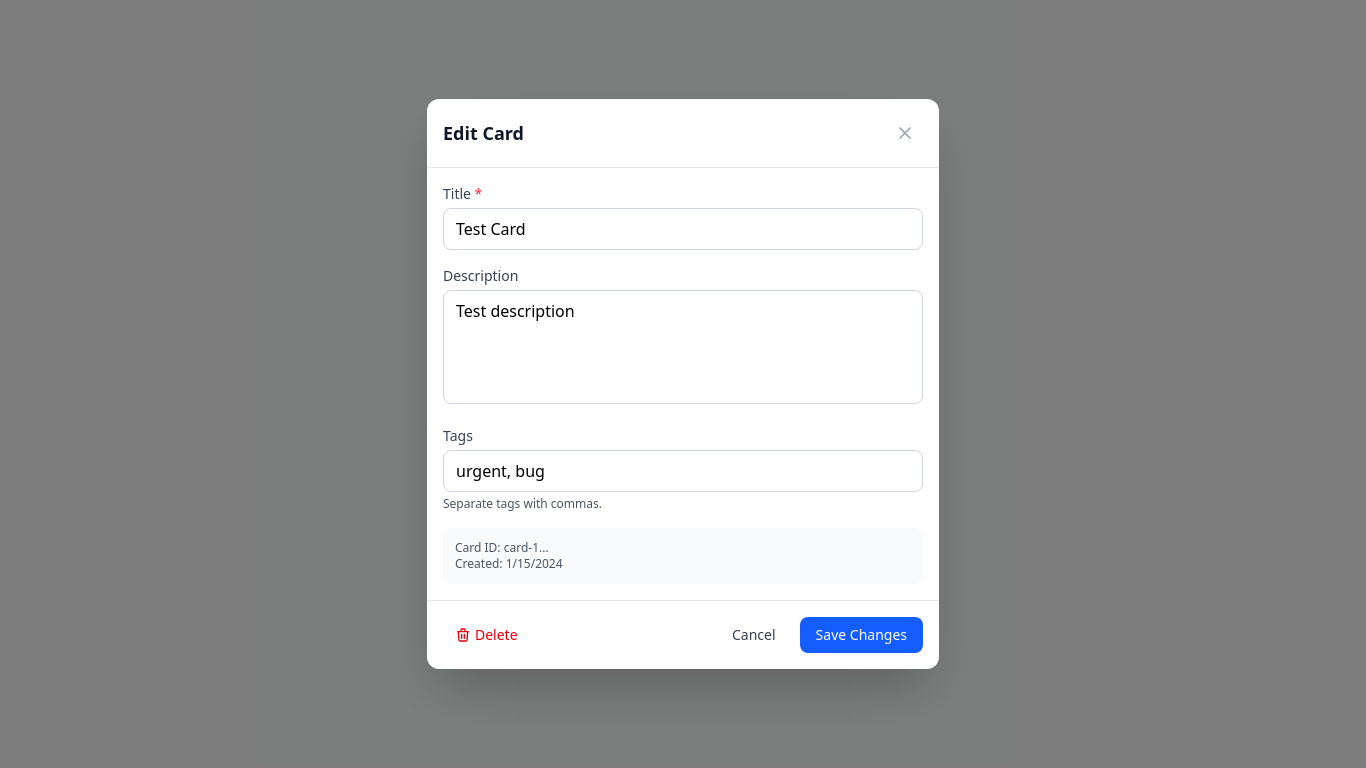
CardDetailModal › Validation › should clear error when typing
Clear the field with test id "card-title-input" at coordinates (683, 229), box [443,208,923,250]
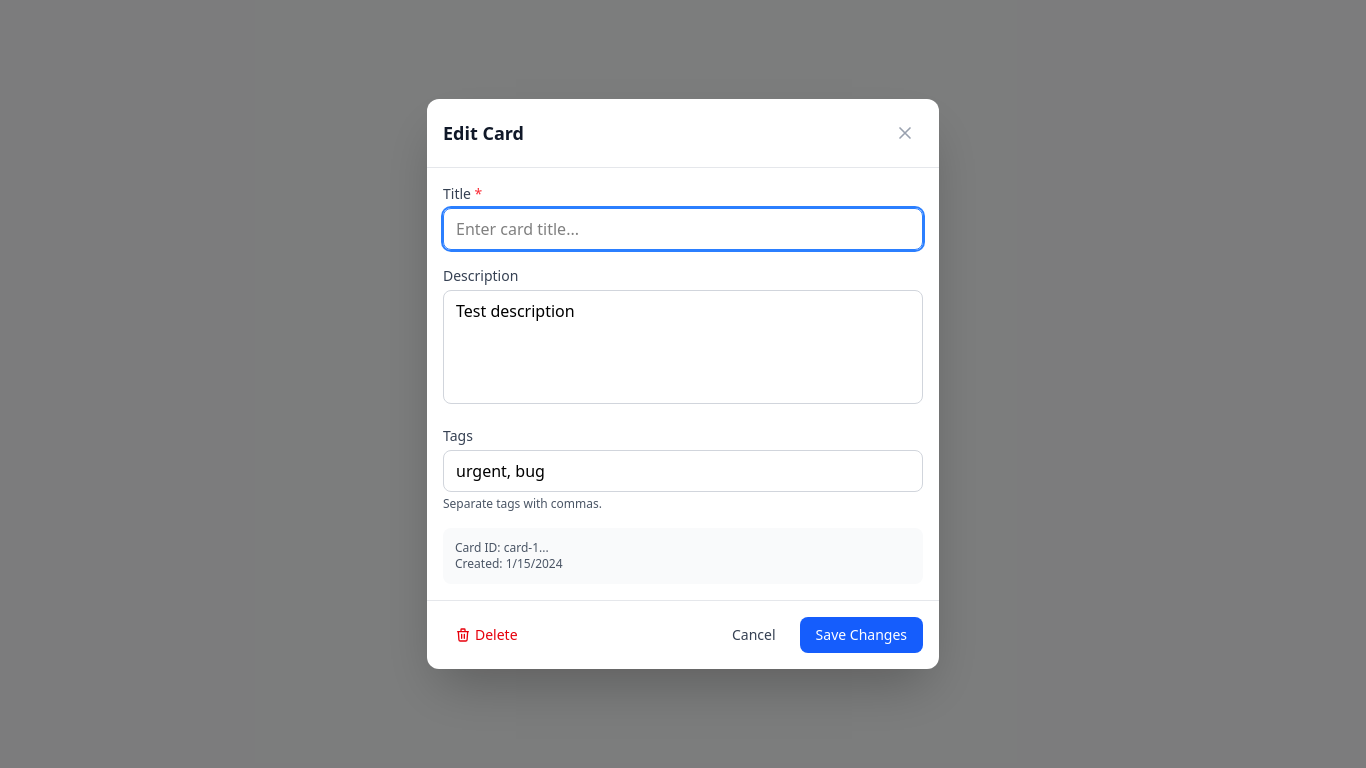
Click the button with test id "save-card-button" at coordinates (861, 635), box [800,617,923,653]
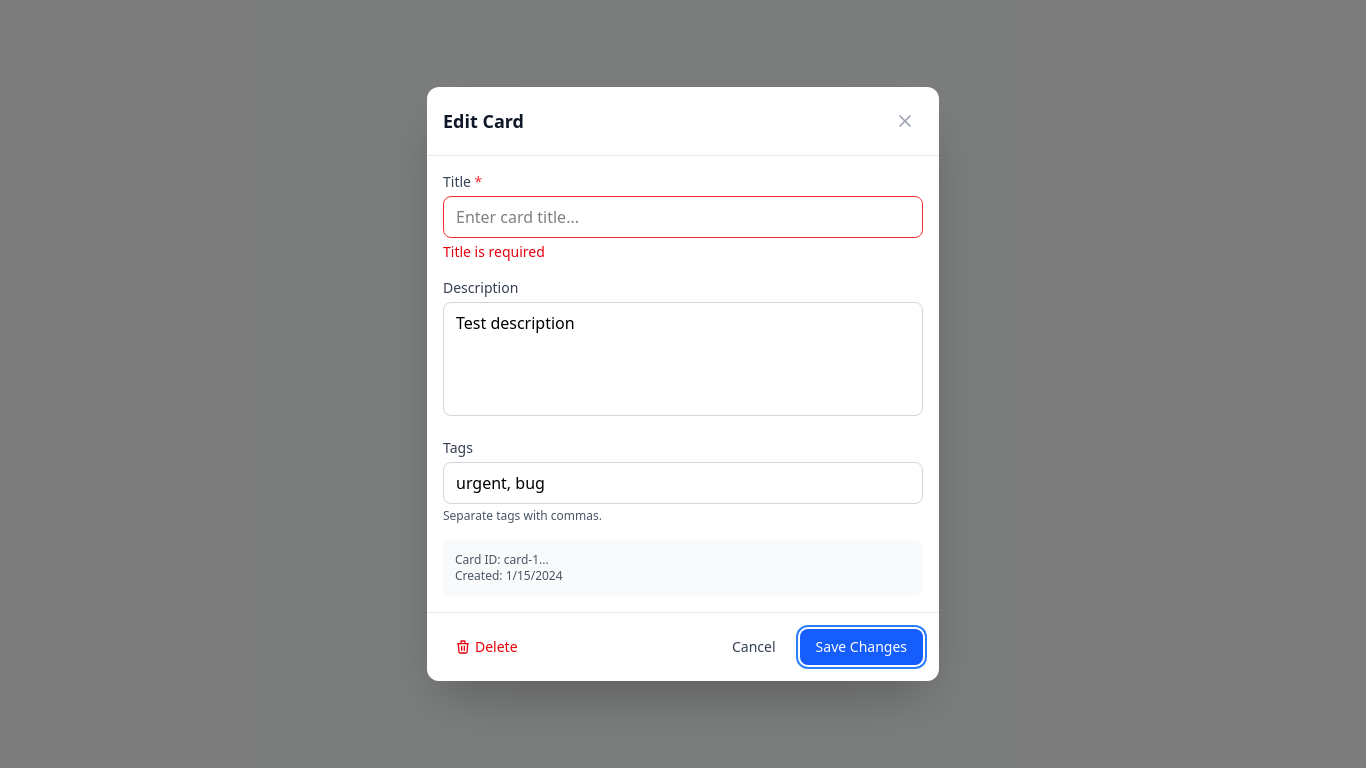
Result: the text "Title is required" is shown at [443,242,545,261]
Type "New" into the field with test id "card-title-input" at coordinates (683, 217), box [443,196,923,238]
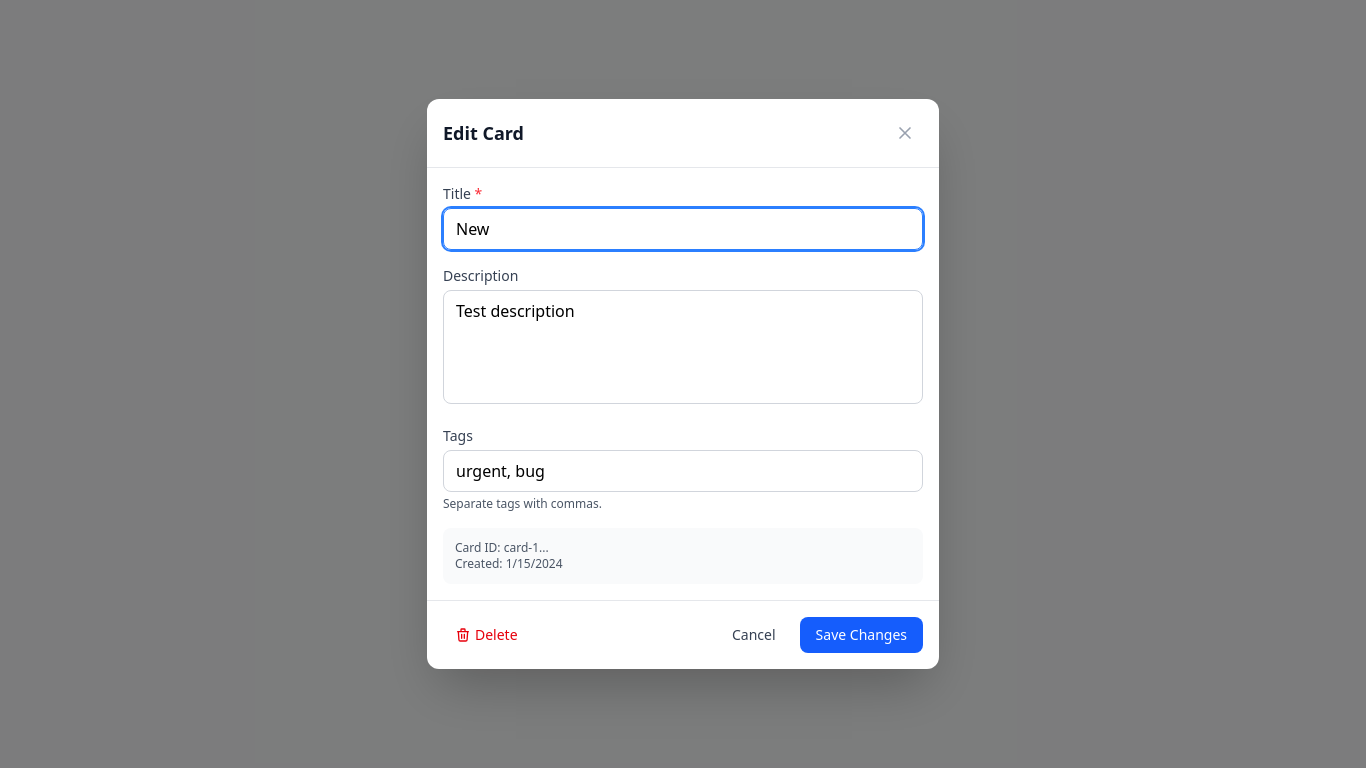
Result: the text "Title is required" is gone
